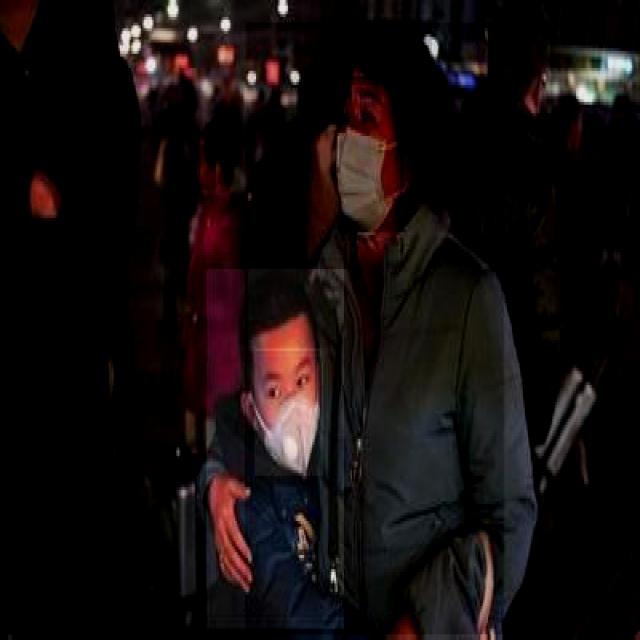face_mask: (338, 77, 403, 235), (254, 348, 324, 476)
face_nomask: (197, 144, 216, 192)
hand_noglove: (204, 449, 258, 590)
head_nohelmet: (484, 14, 550, 116), (331, 20, 432, 85), (248, 266, 315, 351), (203, 122, 234, 187)
person: (245, 23, 504, 637), (205, 269, 344, 632)
